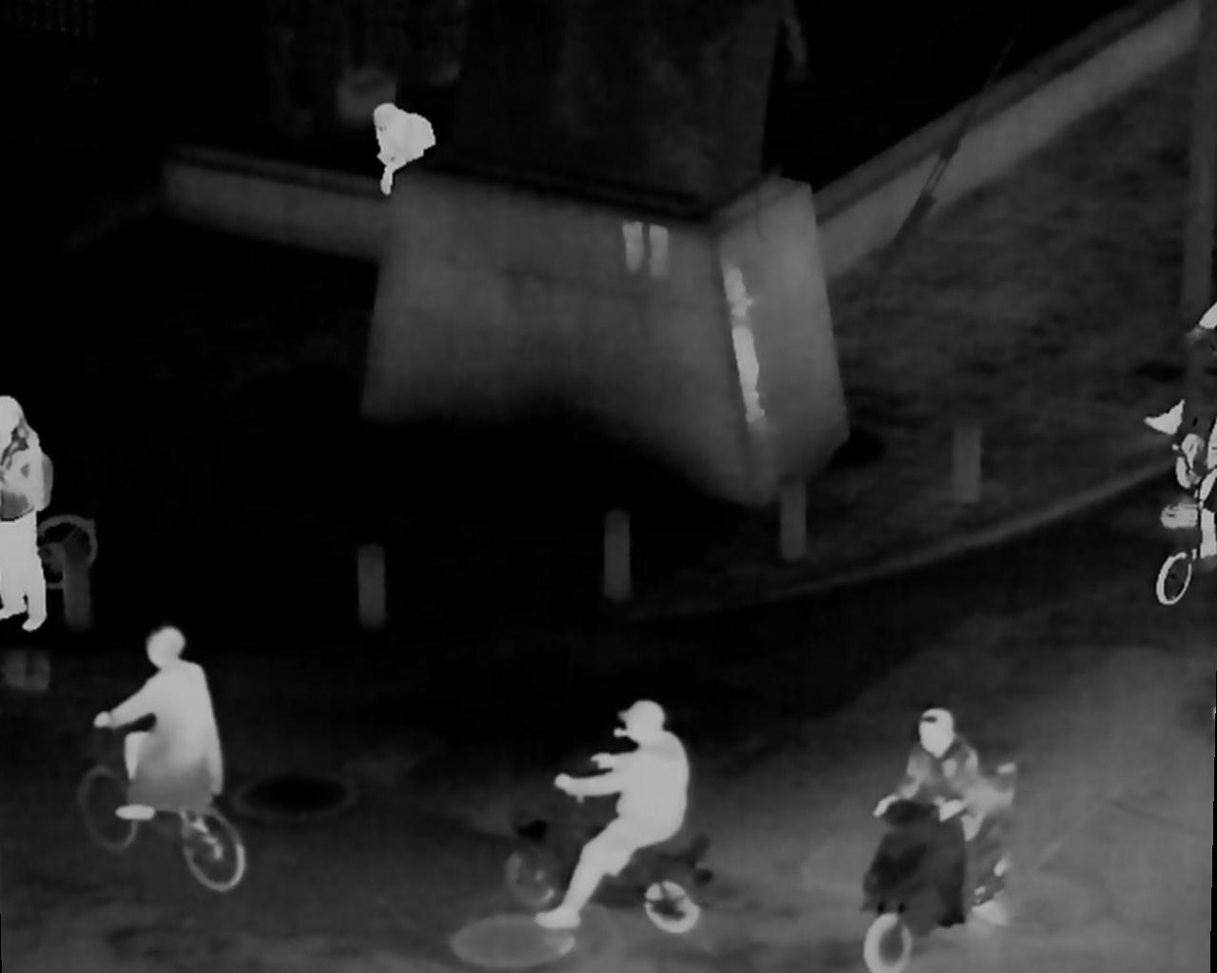person: (544, 700, 680, 956), (105, 634, 240, 842), (897, 694, 999, 906), (365, 101, 448, 190)
